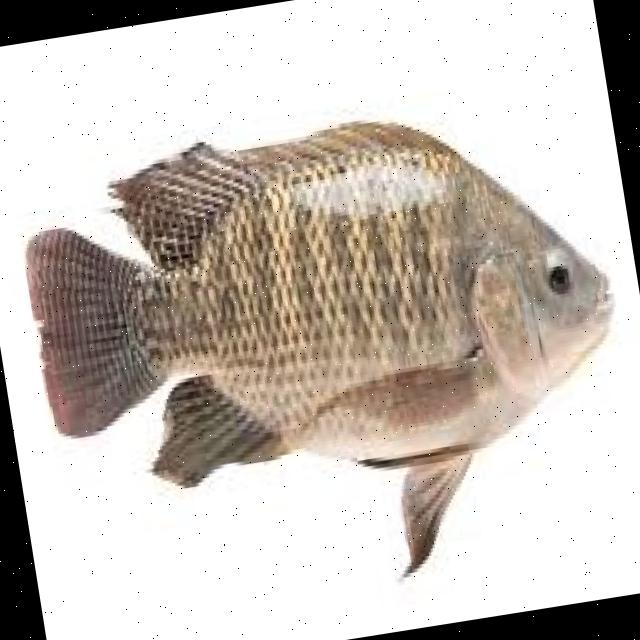ikan: (6, 75, 640, 628)
